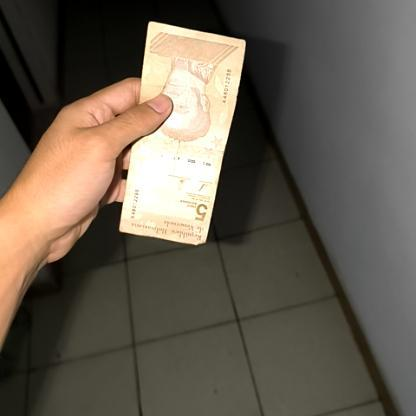five-front-vef: (119, 23, 246, 244)
